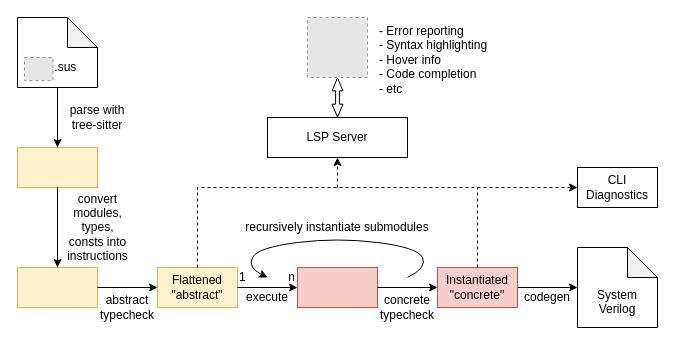
The diagram is 675 pixels wide and 345 high, and some of its shapes have lost their labels. Grey dashed boxes stand in for pictures. Here are the shapes that lost their labels. From the top down, the centre of each, then its label:
At [57,167]: "Tree-Sitter AST".
At [57,287]: "Instructions".
At [337,287]: "Executed".
